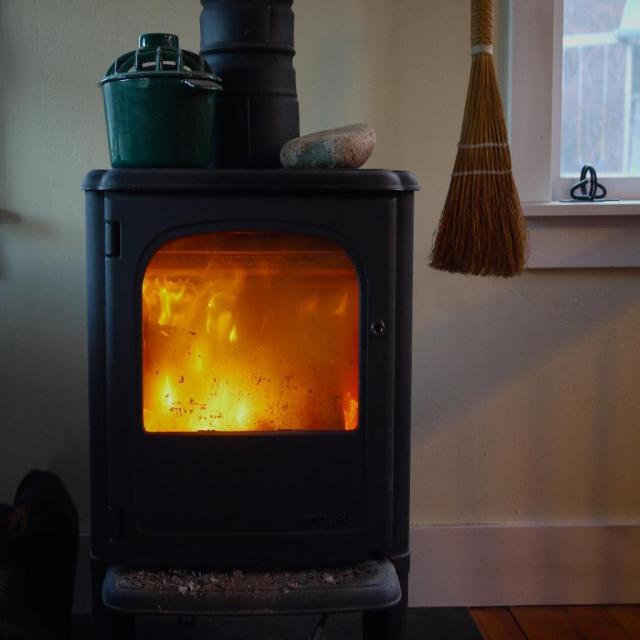Fire: (141, 234, 362, 431)
